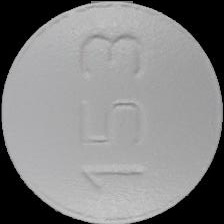55154-3495: (0, 0, 224, 224)
